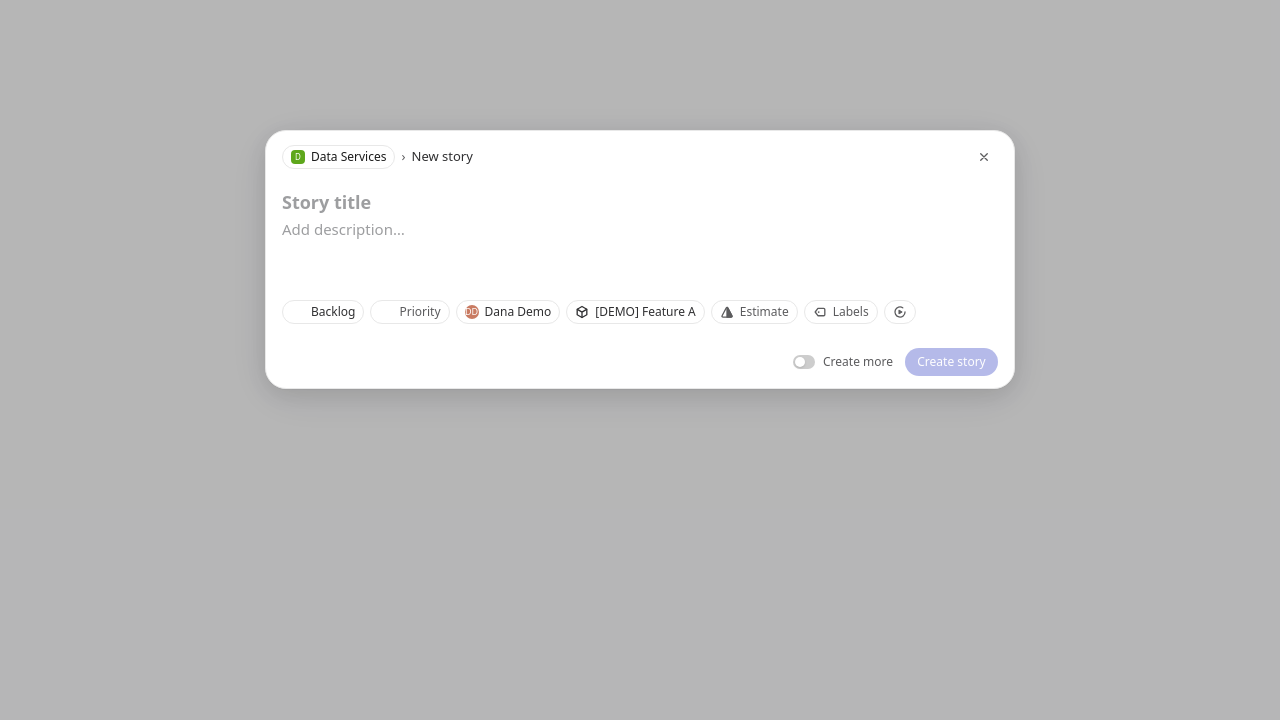
Test: a chip opens its picker under it; choosing sets the value; numbers pick
Expected: the button with aria-label "Change assignee" shows "Dana Demo", [456,300,560,324]
Click the button with aria-label "Change priority" at (410, 312), box [370,300,450,324]
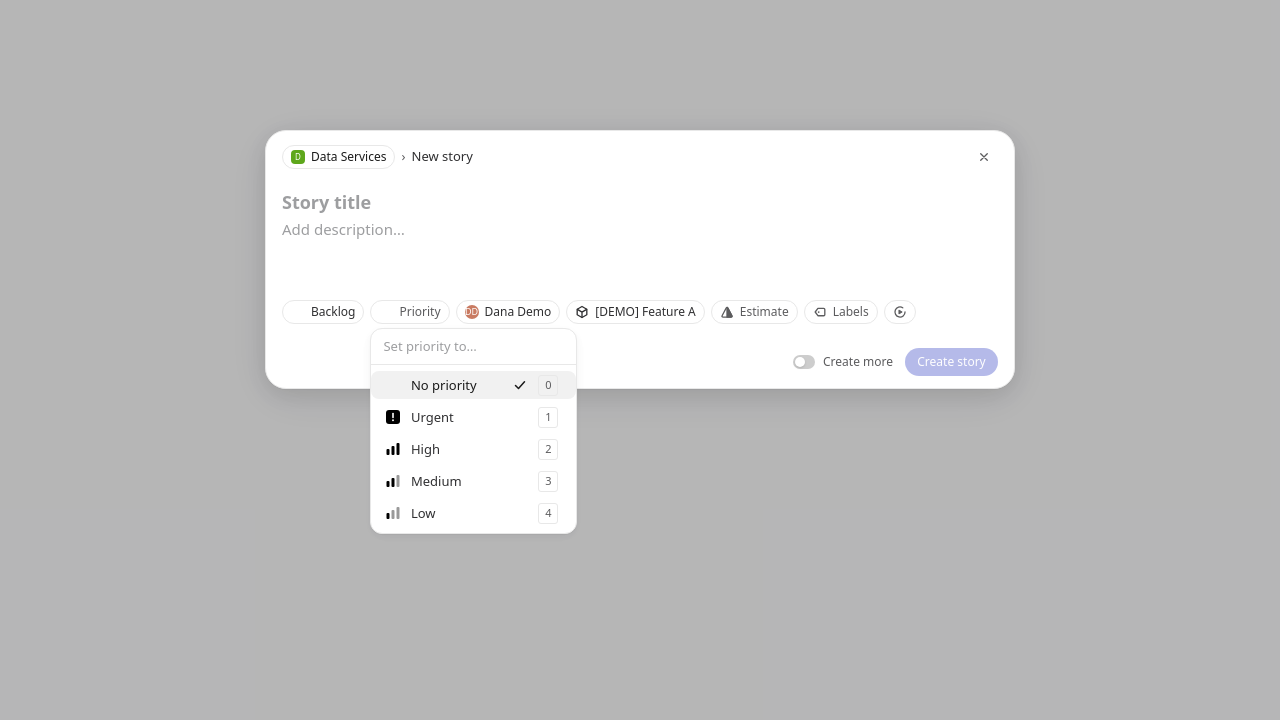
Press 2 in the field with placeholder "Set priority to…", box [383,337,564,356]
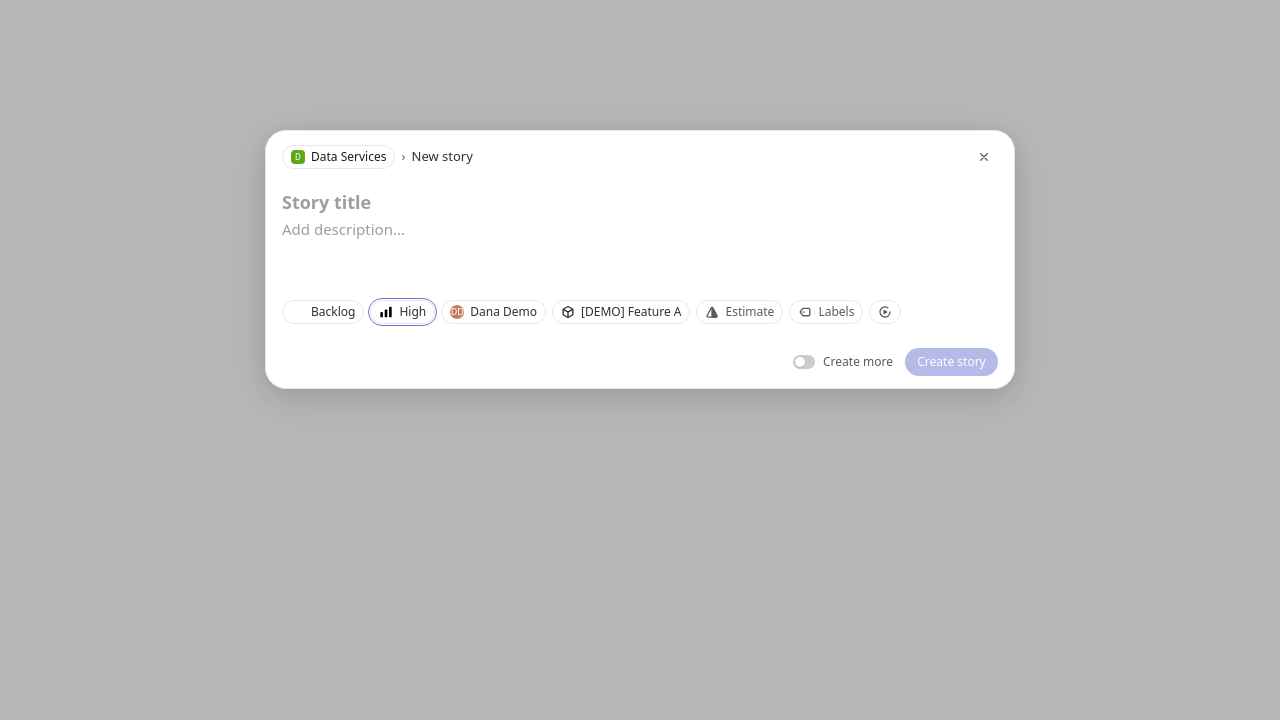
Now the button with aria-label "Change priority" reads "High", box [370,300,435,324]
Click the button with aria-label "Change estimate" at (740, 312), box [696,300,783,324]
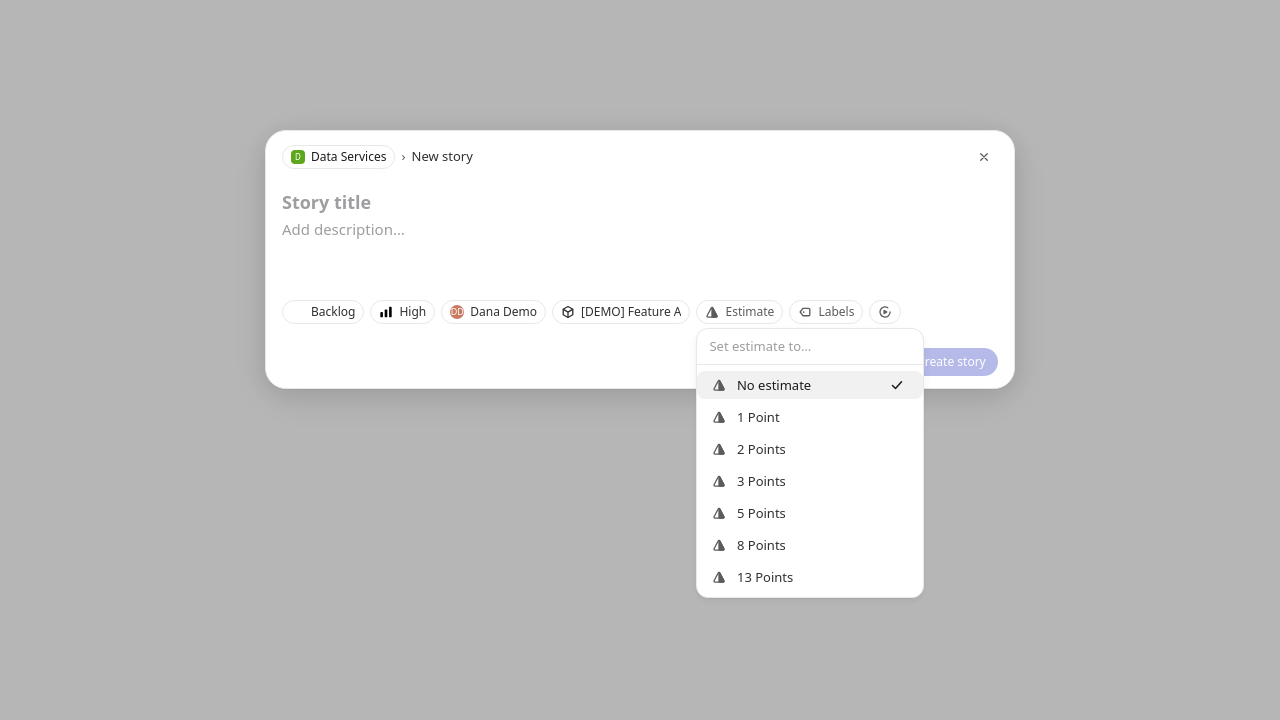
Click the menu item "5 Points" at (749, 512), box [712,504,786,522]
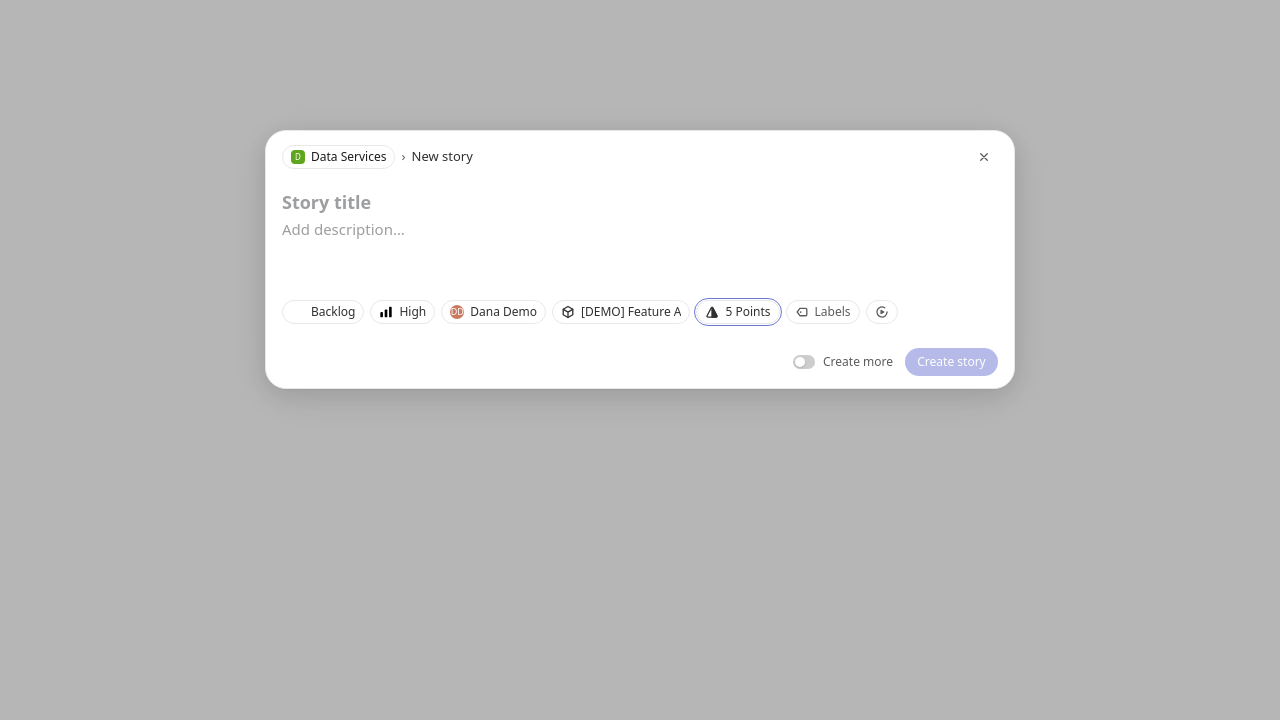
Now the button with aria-label "Change estimate" reads "5 Points", box [696,300,780,324]
